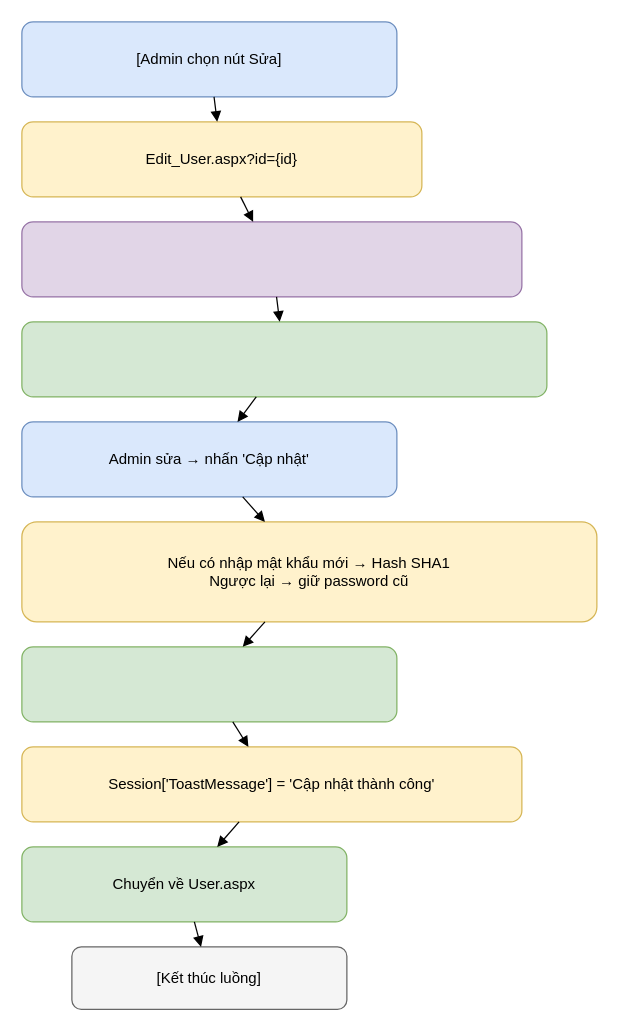
The diagram is 619 pixels wide and 1031 high, and some of its shapes have lost their labels. Here are the shapes that lost their labels. From the top down, the centre of each, then its label:
At (271,259): "Hệ thống truy vấn thông tin người dùng từ DB".
At (284,359): "Hiển thị dữ liệu vào TextBox, DropDownList".
At (209,684): "UPDATE bảng [user]".
